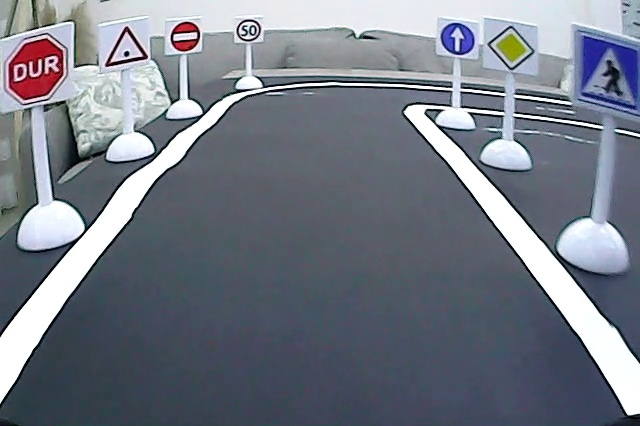do not enter: (168, 20, 202, 53)
green light: (103, 22, 150, 69)
pedestrian crossing: (577, 29, 640, 119)
speed limit 50: (235, 18, 262, 43)
stop sign: (4, 32, 70, 108)
